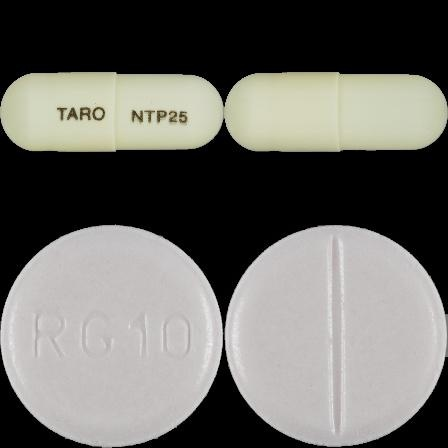68788-9830: (0, 0, 224, 224)
